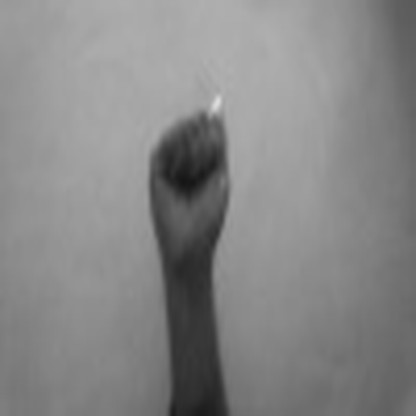a: (134, 97, 256, 262)
